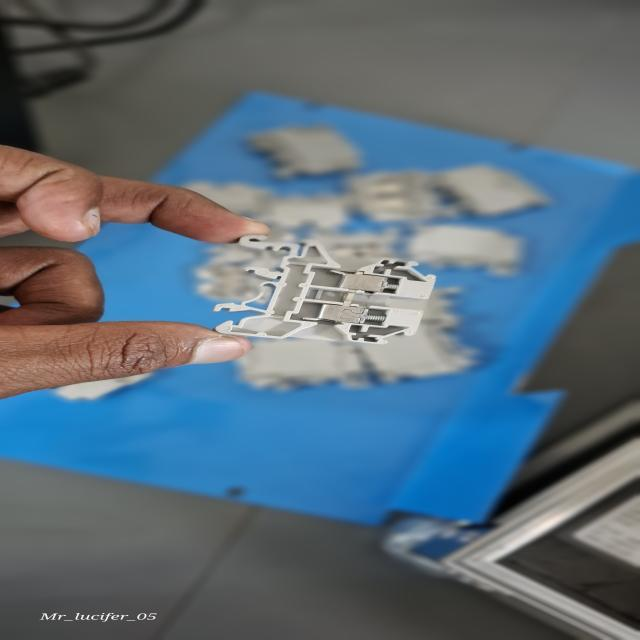Pass: (212, 231, 444, 345)
